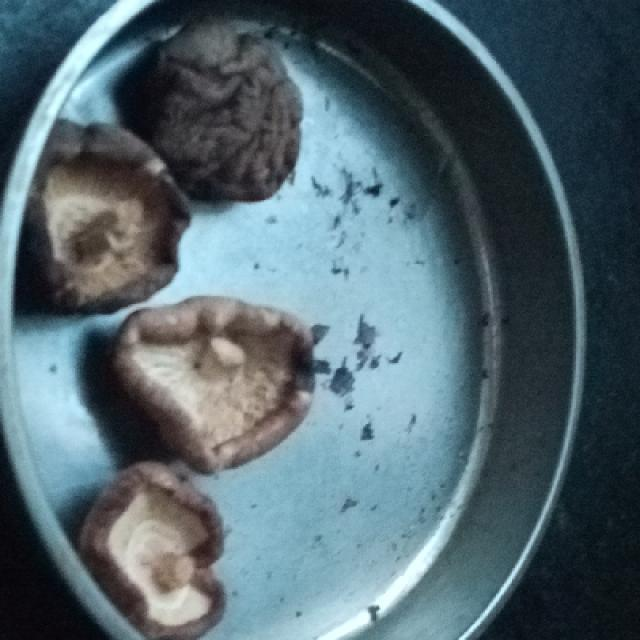Lentinus edodes: (19, 118, 201, 314), (122, 296, 322, 470), (141, 28, 308, 197), (82, 468, 227, 630)
